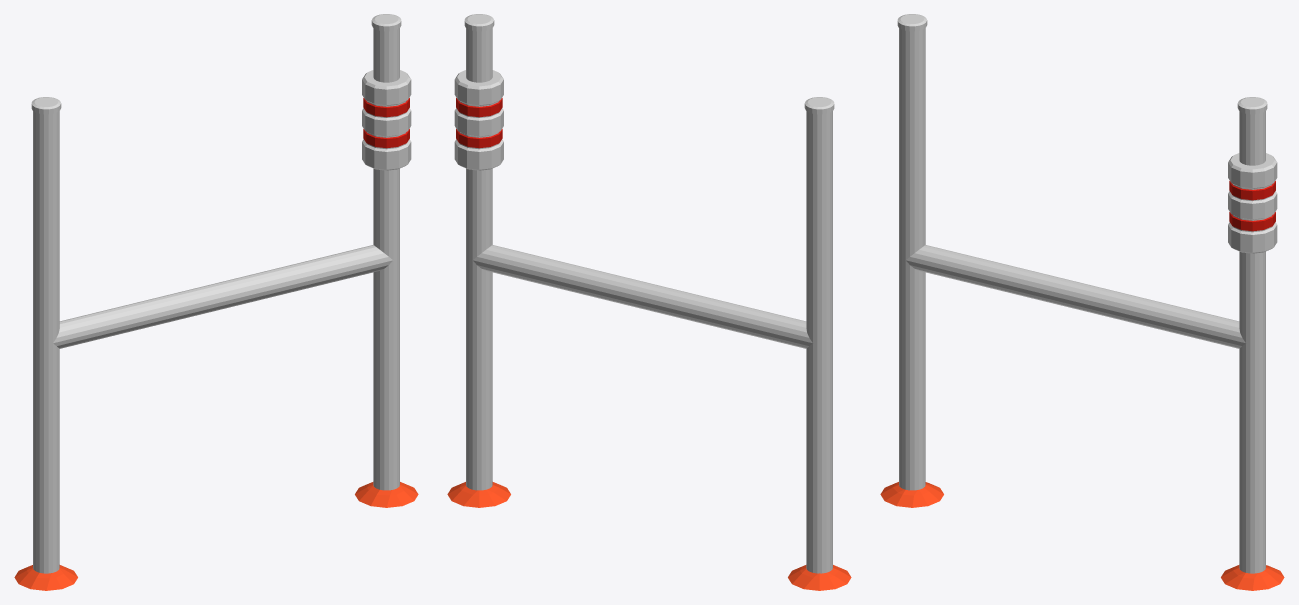
File: Goal.obj
3 views of the same model, side by side, from view 1: azimuth 30°, elevation 25°; view 2: azimuth 150°, elevation 25°; view 3: azimuth 330°, elevation 25° (orthographic).
Visible parts, largest first — view 1: Post_Cylinder; view 2: Post_Cylinder; view 3: Post_Cylinder.
Part boxes in pixels (x1,y1,x2,y2): Post_Cylinder: (14,14,418,590); Post_Cylinder: (447,14,851,590); Post_Cylinder: (880,14,1284,590).
Bounding box in the file's own units: 9.3 × 10.68 × 1.3.
